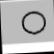no answer: (21, 9, 48, 36)
